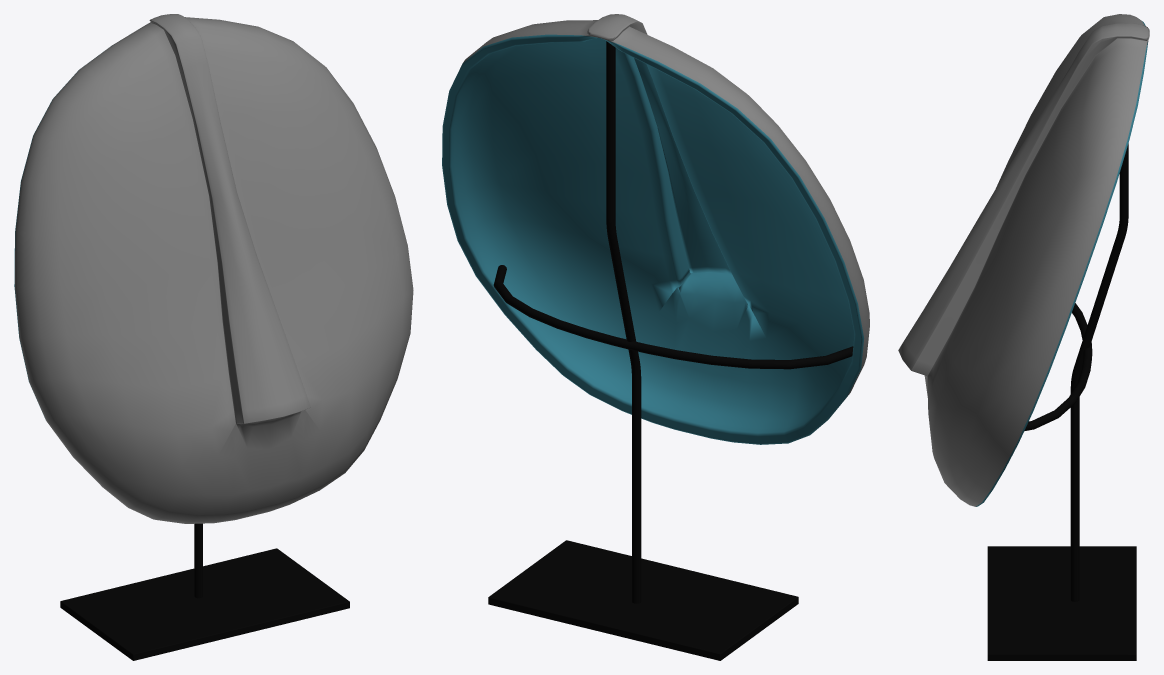
The model's file is ENESS3D_Objet_Decoratif_Masque_Songye.FBX.
3 views of the same model, side by side, from view 1: azimuth 30°, elevation 25°; view 2: azimuth 150°, elevation 25°; view 3: azimuth 270°, elevation 25° (orthographic). The views are drawn at different scales.
Parts seen in each view (by area): view 1: Eness3d_03, Eness3d_02, Eness3d_00; view 2: Eness3d_03, Eness3d_02, Eness3d_00, Eness3d_01; view 3: Eness3d_03, Eness3d_02, Eness3d_00, Eness3d_01.
Part boxes in pixels (x1,y1,x2,y2): Eness3d_03: [14, 14, 413, 523]; Eness3d_02: [60, 548, 349, 660]; Eness3d_00: [194, 523, 202, 598]; Eness3d_03: [442, 14, 869, 444]; Eness3d_02: [488, 540, 798, 660]; Eness3d_00: [606, 41, 641, 603]; Eness3d_01: [493, 265, 853, 369]; Eness3d_03: [898, 14, 1149, 506]; Eness3d_02: [987, 546, 1136, 660]; Eness3d_00: [1070, 143, 1128, 601]; Eness3d_01: [1024, 303, 1092, 431].
Size of the model in its own units: 51.33 by 72.53 by 28.53.
